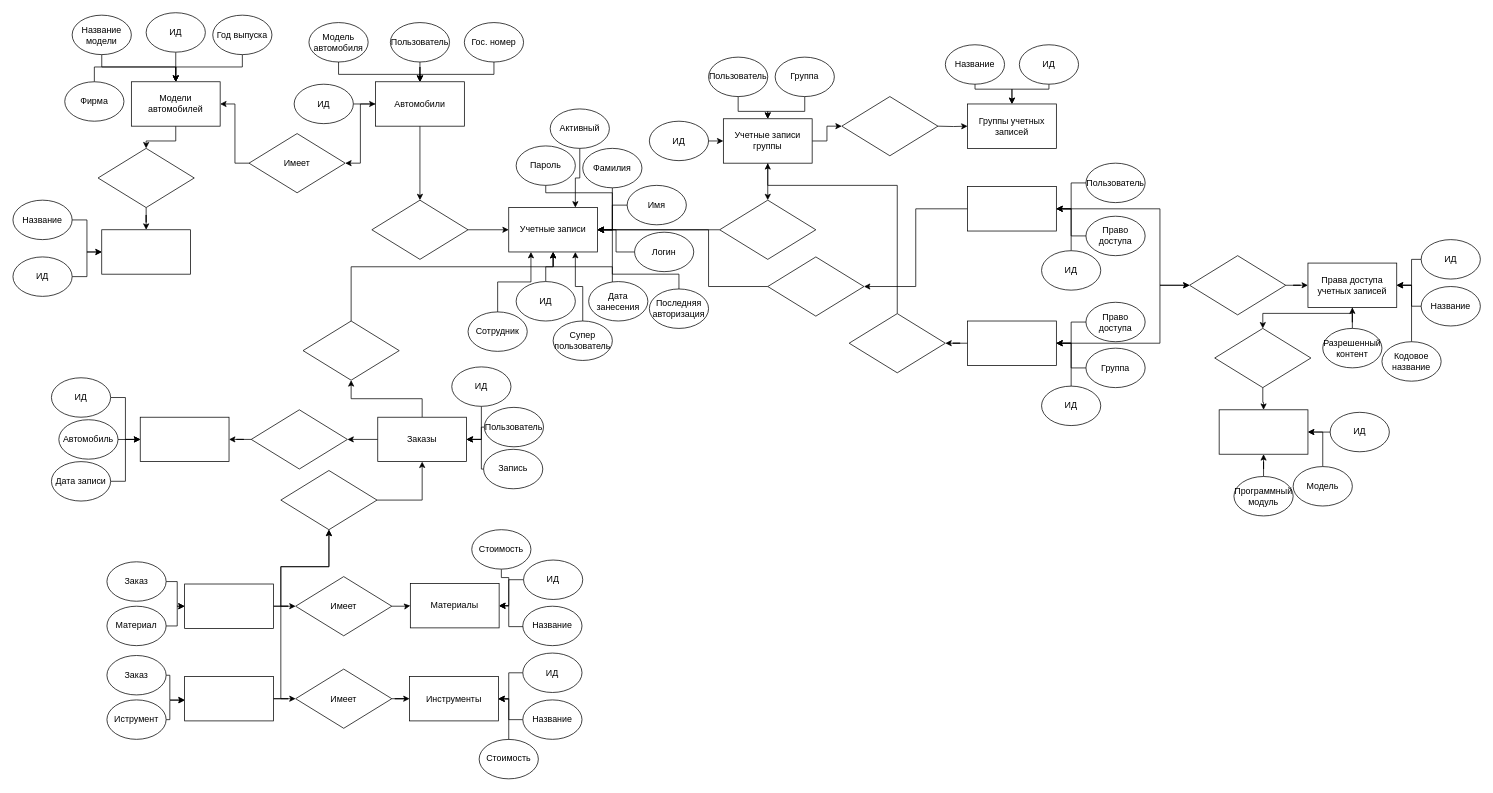
Some shapes in this 1493 by 793 pixel diagram are drawn without their labels. The box of each missing label's shape, as (x1, y1, x2, y2) in pixels:
Выполняет запись: (250, 409, 347, 469)
Выпускают: (97, 148, 194, 208)
Дает права группе: (848, 313, 945, 373)
Дает права пользователю: (767, 256, 864, 316)
Записи: (139, 416, 229, 462)
Имеет владельца: (371, 199, 468, 259)
Инструменты для заказов: (184, 676, 273, 721)
Контент: (1218, 409, 1308, 454)
Материалы для заказов: (184, 583, 273, 628)
Оказывается сотрудником: (302, 320, 399, 380)
Права доступа групп учетных записей: (967, 320, 1056, 365)
Права доступа учетной записи: (967, 186, 1056, 231)
Разрешает определенный контент: (1214, 328, 1311, 388)
Содержат выдаваемые права доступа: (1189, 255, 1286, 315)
Содержатся в заказе: (280, 470, 377, 530)
Содержит группы: (841, 96, 938, 156)
Содержит пользователей: (719, 199, 816, 259)
Фирмы автомобилей: (101, 229, 191, 274)
